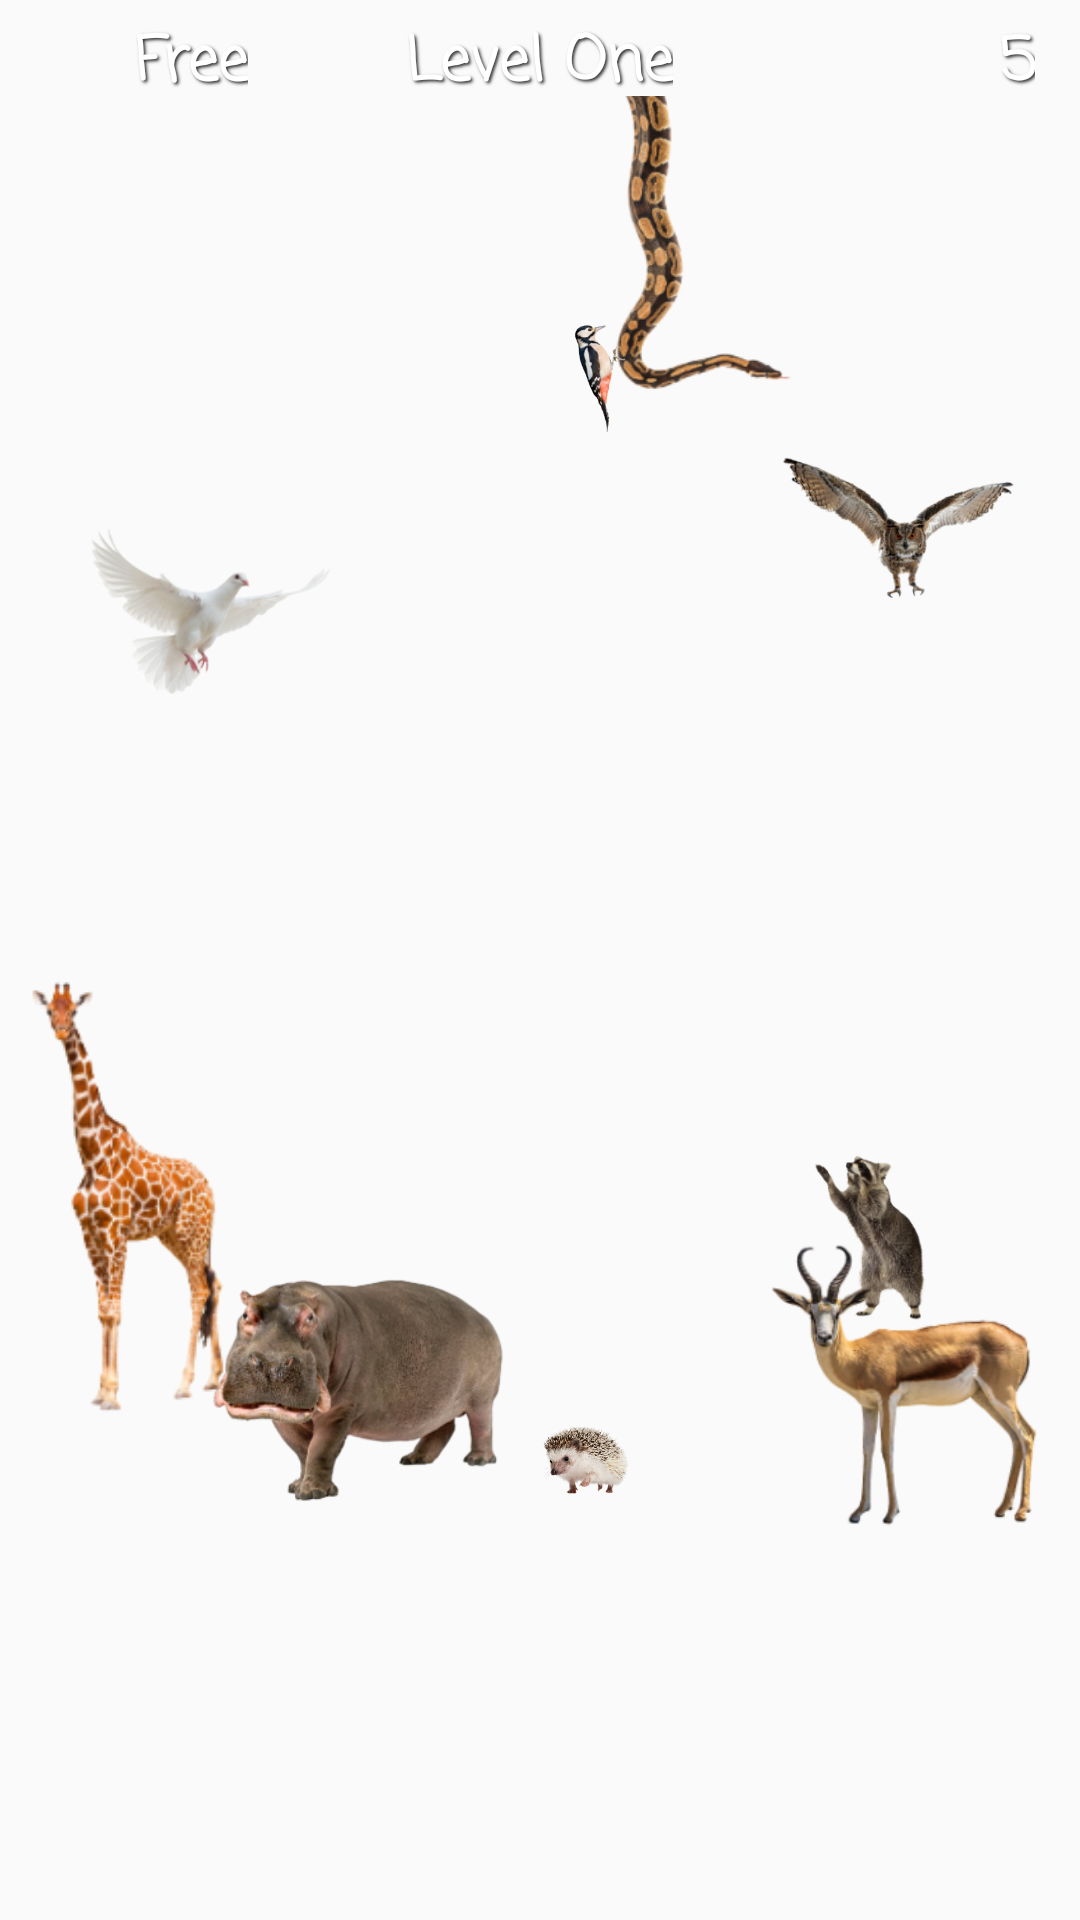

Where to tap for icons on this 1080px x 1920px app screen, as (x,y):
bird: (205,614)
hedgehog: (585,1460)
hippo: (356,1368)
owl: (898,528)
snake: (694,246)
